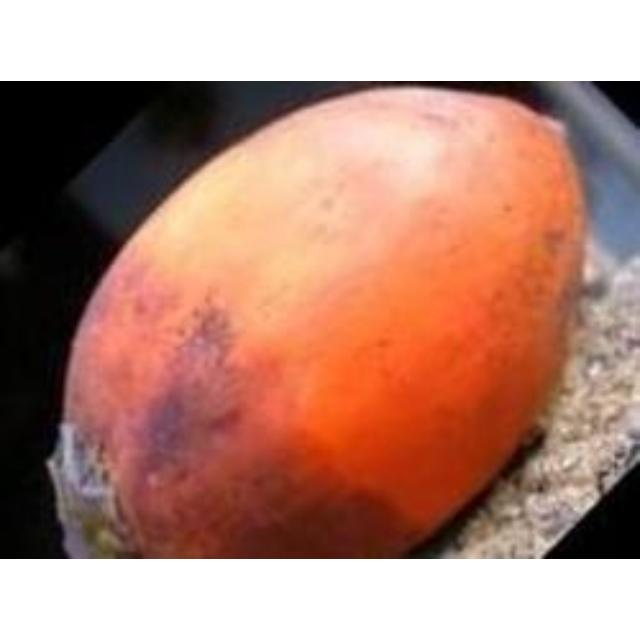good: (46, 86, 589, 557)
